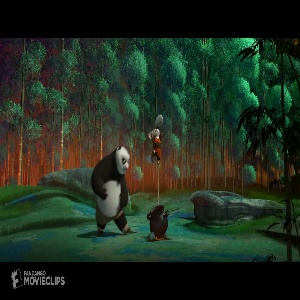po: (89, 144, 138, 237)
shifu: (148, 128, 165, 164)
